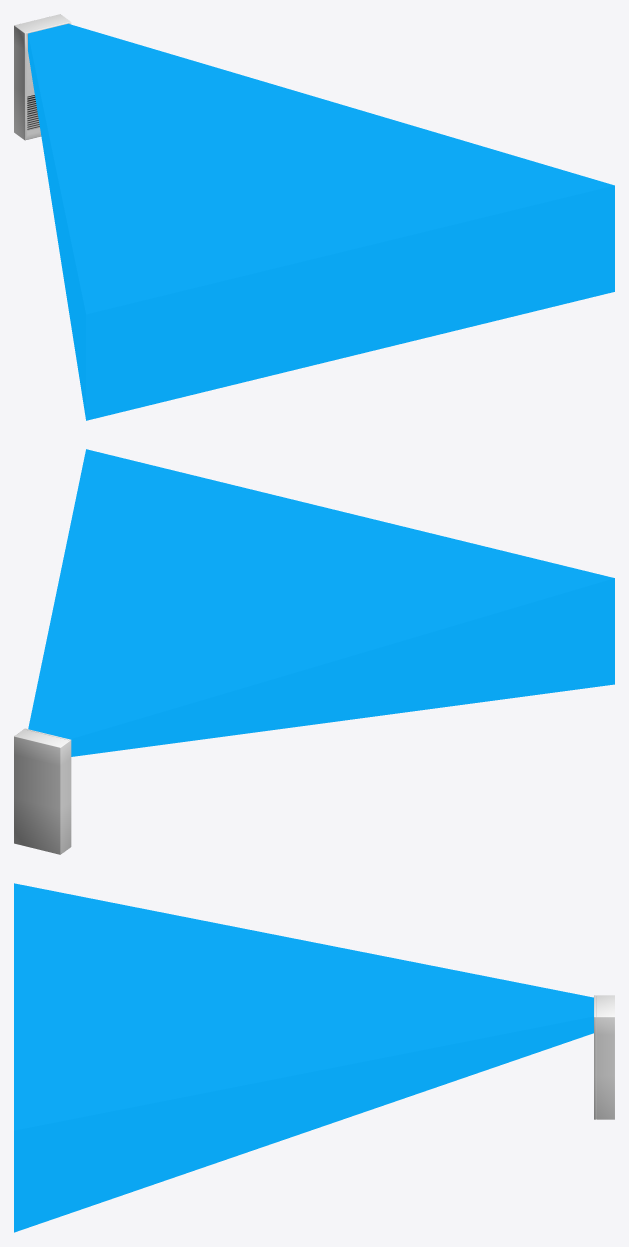
Rendered from 5ton_AC_CC.gltf.
3 renders of one model, top to bottom at view 1: azimuth 30°, elevation 25°; view 2: azimuth 150°, elevation 25°; view 3: azimuth 270°, elevation 25°, orthographic. The views are drawn at different scales.
Parts seen in each view (by area): view 1: Cube, Cube.001; view 2: Cube, Cube.001; view 3: Cube, Cube.001.
Boxes of the visible parts, bbox=[...] form: Cube: bbox=[28, 23, 614, 420]; Cube.001: bbox=[14, 14, 71, 140]; Cube: bbox=[28, 449, 614, 756]; Cube.001: bbox=[14, 728, 71, 854]; Cube: bbox=[14, 883, 593, 1232]; Cube.001: bbox=[594, 995, 614, 1119].
Size of the model in its own units: 97.43 by 18.9 by 100.
5 materials, 1 textured.
